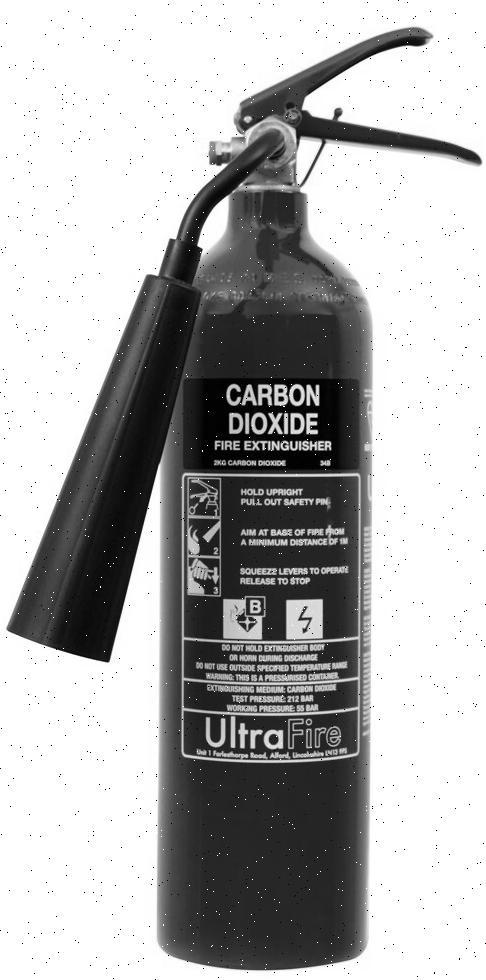Fire Extinguisher: (18, 17, 486, 980)
